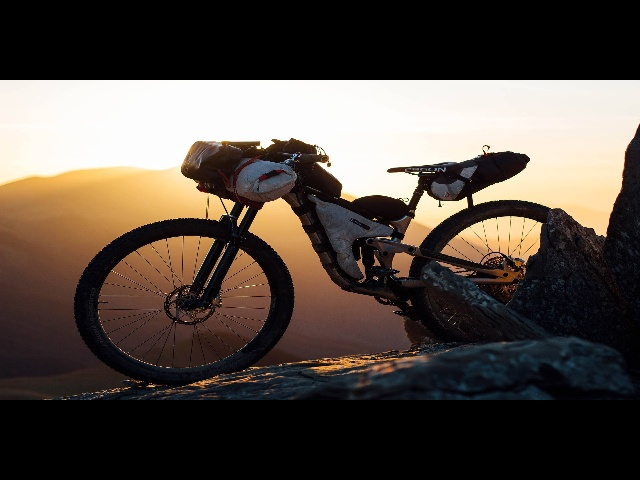bike: (62, 130, 566, 388)
